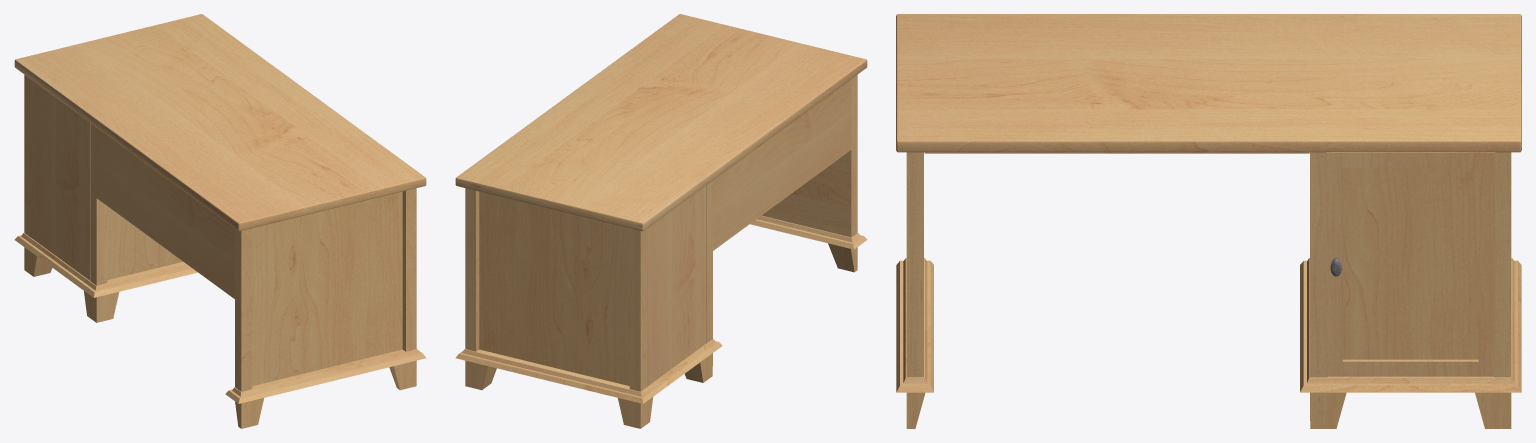
File: shuzhuo.fbx
3 renders of one model, left to right at view 1: azimuth 30°, elevation 25°; view 2: azimuth 150°, elevation 25°; view 3: azimuth 270°, elevation 25°, orthographic. The views are drawn at different scales.
Parts seen in each view (by area): view 1: shuzhuo; view 2: shuzhuo; view 3: shuzhuo.
Part boxes in pixels (<box>): shuzhuo: <box>14,14,426,428</box>; shuzhuo: <box>455,14,867,428</box>; shuzhuo: <box>896,14,1521,428</box>.
Bounding box in the file's own units: 68.35 × 71.94 × 140.
